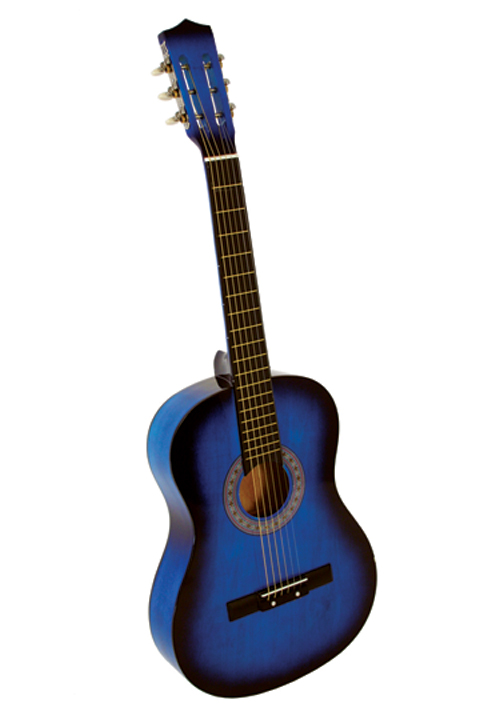guitar: (143, 18, 378, 701)
